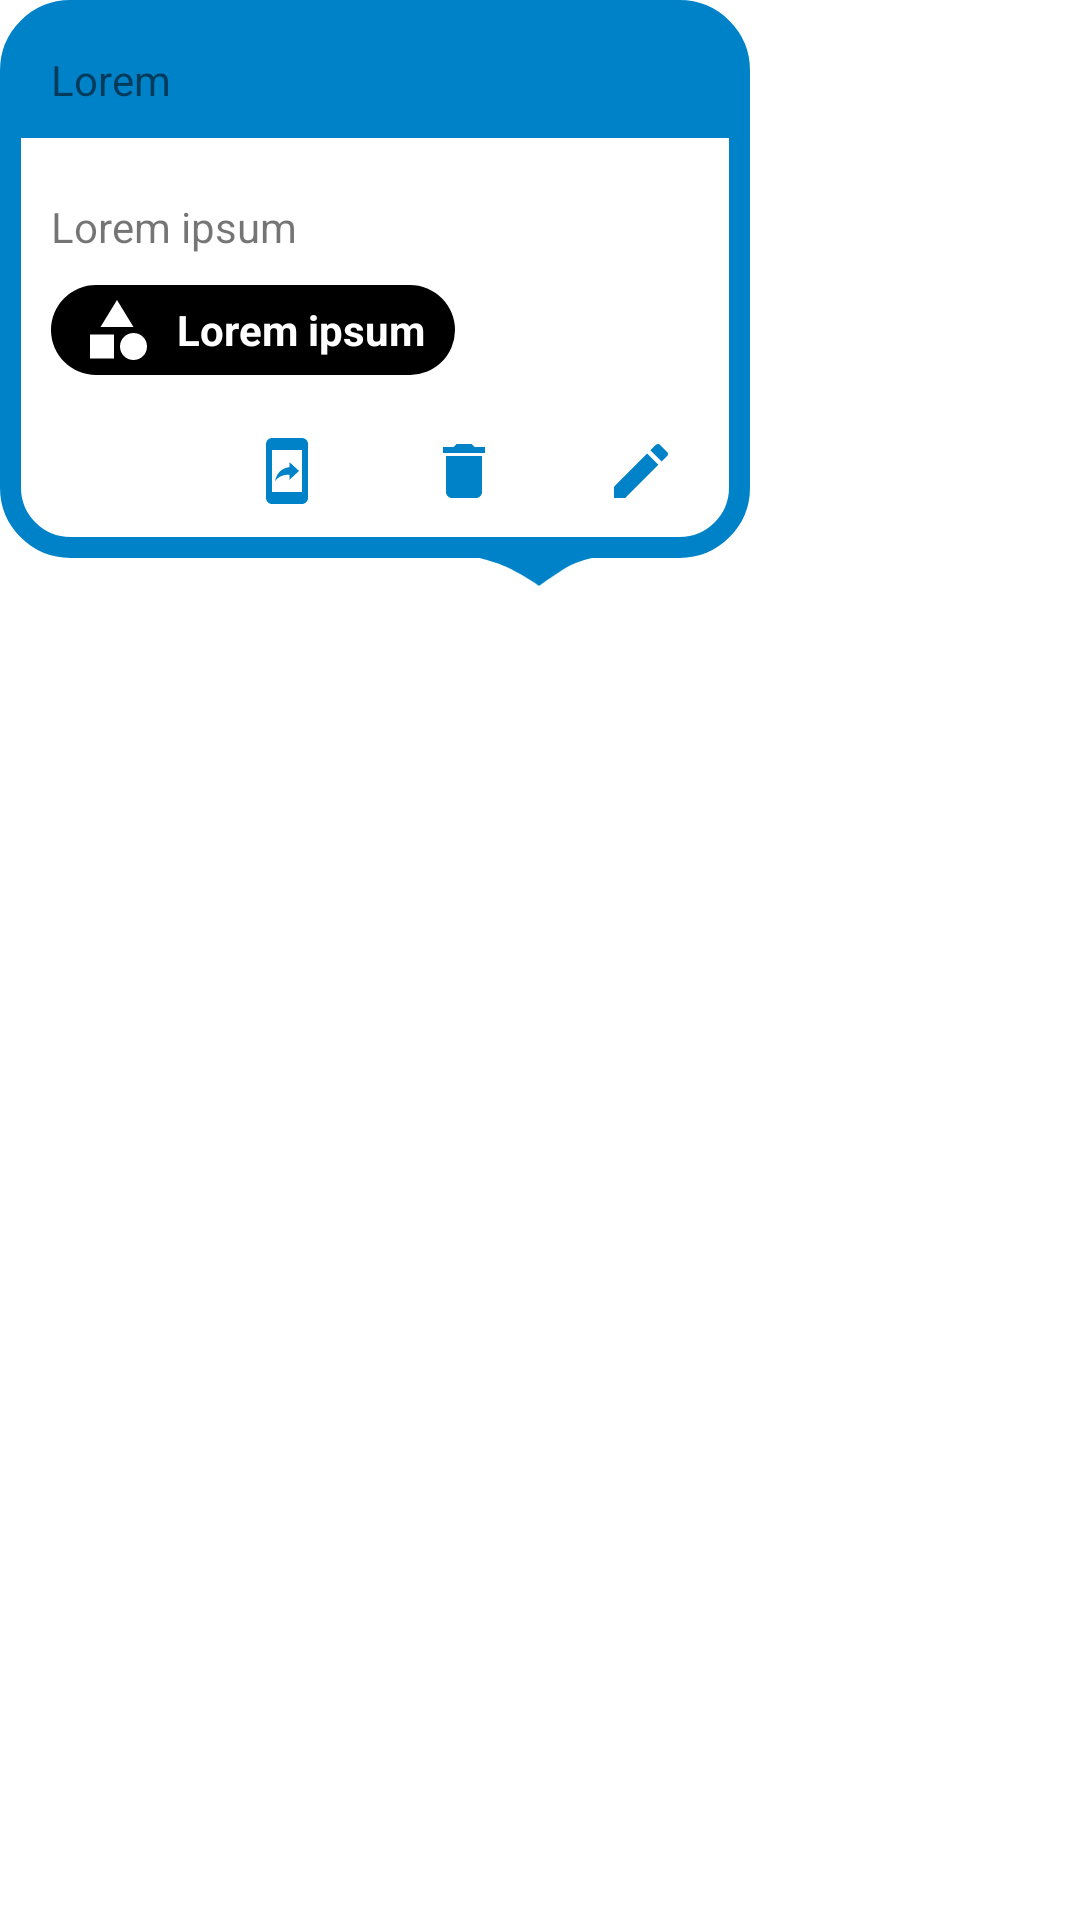

Where icons sit on this 1080px×1920px app screen, as {"x1": x1, "y1": y1, "x2": x2, "y2": y2}:
delete: {"x1": 443, "y1": 444, "x2": 485, "y2": 498}
nav: {"x1": 266, "y1": 438, "x2": 308, "y2": 504}
